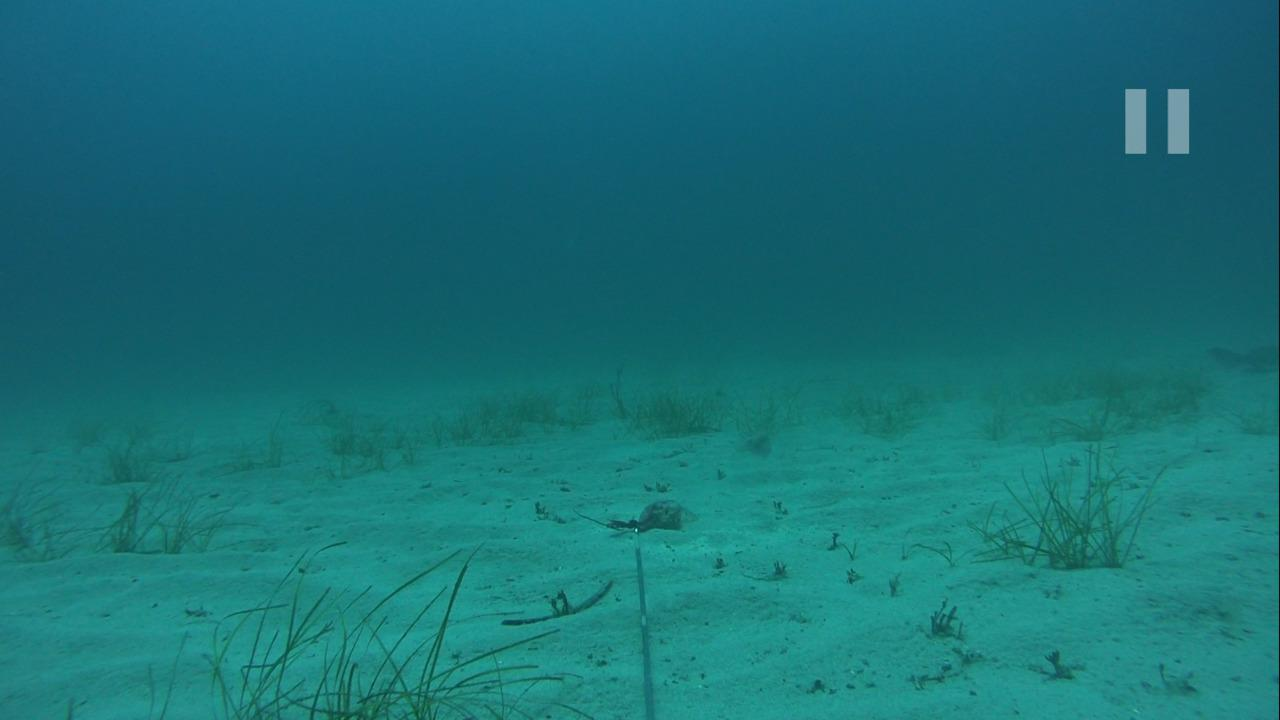myliobatis: (1189, 334, 1279, 377)
raor: (718, 428, 779, 463)
